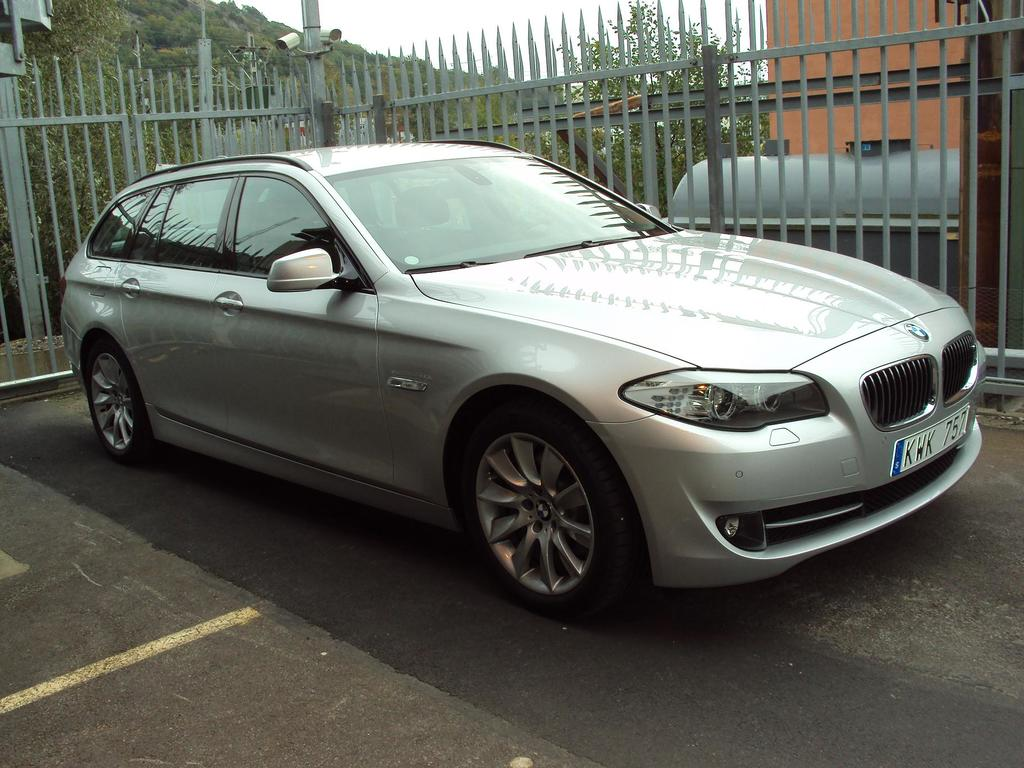Car: (57, 142, 986, 615)
